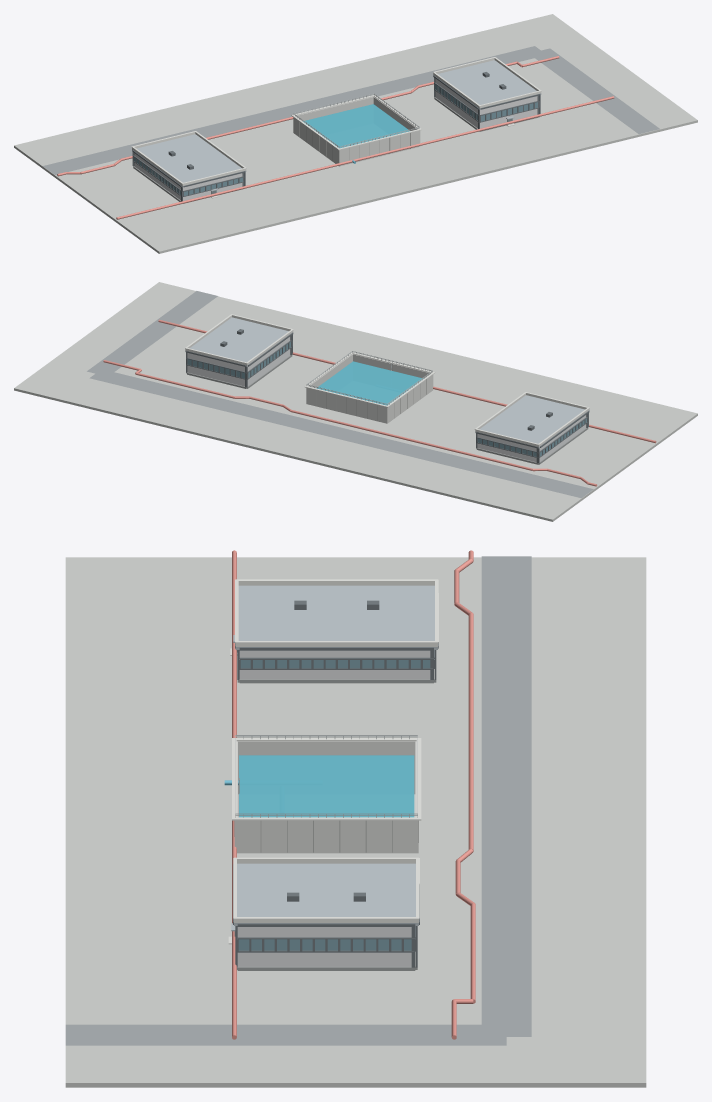
The model's file is north-pool-sample.glb.
The picture shows the model from 3 angles, top to bottom: view 1: azimuth 30°, elevation 25°; view 2: azimuth 150°, elevation 25°; view 3: azimuth 270°, elevation 25°; orthographic projection. The views are drawn at different scales.
Parts seen in each view (by area): view 1: ground_s, ground_n, ground_w, ground_e, road_CF248_0_0, roof_217737, pool_water, roof_FAC64, road_109442_0_0, pipe_139728_1_0, pool_wall_s, building_FAC64 (+13 smaller); view 2: ground_n, ground_s, ground_w, road_CF248_0_0, ground_e, roof_217737, pool_water, roof_FAC64, road_109442_0_0, pool_wall_n, building_FAC64, facade_FAC64_frame (+14 smaller); view 3: ground_n, ground_s, road_CF248_0_0, ground_e, ground_w, pool_water, roof_217737, roof_FAC64, road_109442_0_0, pool_wall_e, building_FAC64, building_217737 (+15 smaller).
Part boxes in pixels (x1,y1,x2,y2): ground_s: [117, 89, 697, 253]; ground_n: [14, 14, 609, 188]; ground_w: [71, 133, 338, 222]; ground_e: [394, 55, 655, 146]; road_CF248_0_0: [43, 46, 546, 174]; roof_217737: [132, 134, 246, 187]; pool_water: [303, 104, 409, 148]; roof_FAC64: [433, 60, 541, 109]; road_109442_0_0: [529, 48, 659, 134]; pipe_139728_1_0: [116, 96, 614, 219]; pool_wall_s: [338, 130, 420, 166]; building_FAC64: [435, 78, 537, 128]; ground_n: [14, 346, 609, 521]; ground_s: [117, 282, 697, 446]; ground_w: [387, 390, 655, 479]; road_CF248_0_0: [89, 372, 593, 498]; ground_e: [71, 313, 332, 403]; roof_217737: [475, 395, 589, 448]; pool_water: [316, 361, 423, 405]; roof_FAC64: [185, 317, 293, 366]; road_109442_0_0: [87, 291, 217, 376]; pool_wall_n: [306, 388, 388, 423]; building_FAC64: [187, 336, 290, 386]; facade_FAC64_frame: [186, 332, 293, 387]; ground_n: [418, 557, 646, 1087]; ground_s: [65, 557, 234, 1087]; road_CF248_0_0: [481, 556, 531, 1036]; ground_e: [234, 853, 418, 1087]; ground_w: [237, 557, 418, 737]; pool_water: [239, 755, 414, 817]; roof_217737: [235, 585, 437, 649]; roof_FAC64: [234, 863, 418, 925]; road_109442_0_0: [65, 1024, 506, 1045]; pool_wall_e: [238, 820, 415, 853]; building_FAC64: [237, 927, 411, 966]; building_217737: [239, 650, 430, 679].
Size of the model in its own units: 30 by 2.02 by 14.
